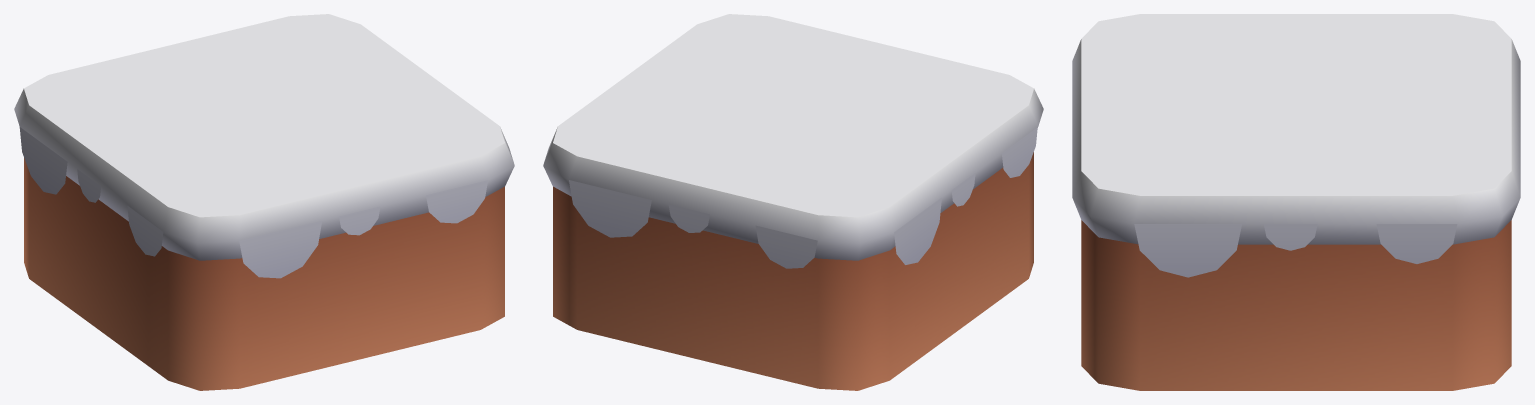
File: block-snow-overhang-large.glb
3 renders of one model, left to right at view 1: azimuth 30°, elevation 25°; view 2: azimuth 150°, elevation 25°; view 3: azimuth 270°, elevation 25°, orthographic. The views are drawn at different scales.
Parts seen in each view (by area): view 1: block-snow-overhang-large; view 2: block-snow-overhang-large; view 3: block-snow-overhang-large.
Part boxes in pixels (<box>): block-snow-overhang-large: <box>14,14,514,390</box>; block-snow-overhang-large: <box>543,14,1043,390</box>; block-snow-overhang-large: <box>1072,14,1520,390</box>.
Size of the model in its own units: 2.08 by 1 by 2.08.
Materials: 1 (1 with a texture image).
